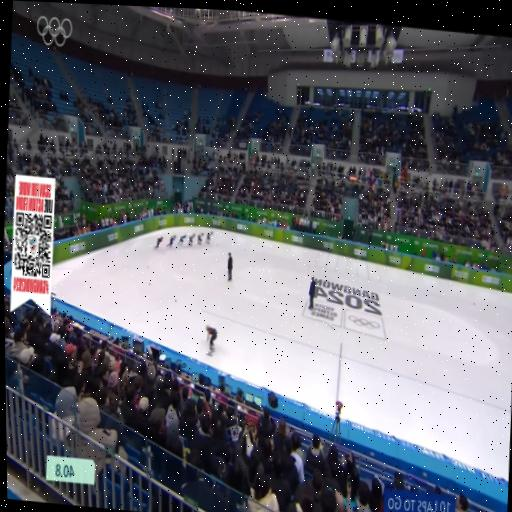Skater: (206, 326, 216, 351), (165, 233, 177, 251), (153, 234, 164, 252), (204, 230, 214, 246), (177, 234, 187, 248), (187, 233, 195, 247), (196, 232, 204, 245)
